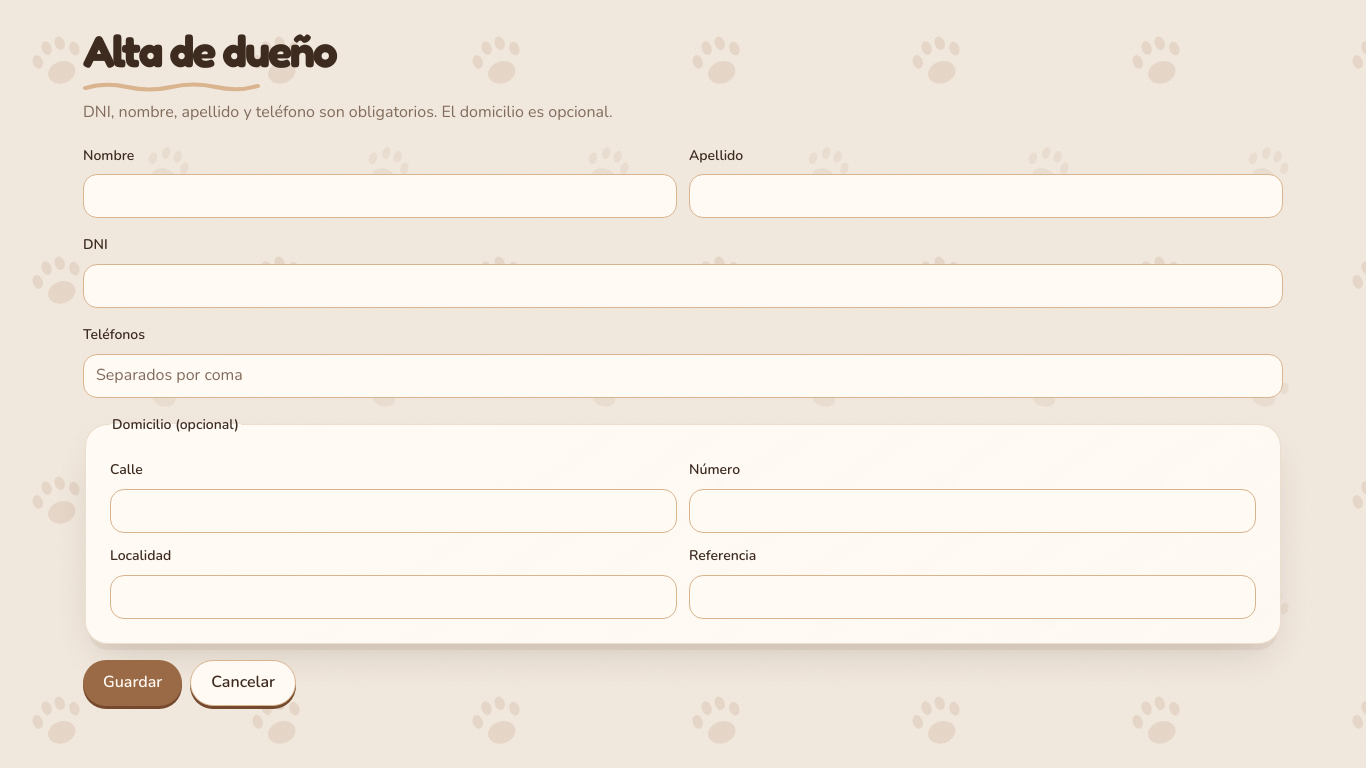
Test: Alta de dueño › un posible duplicado abre el modal y no crea nada
This screenshot has width=1366, height=768.
Type "Ana" into the field labelled "Nombre" at [380, 196], box [83,174,677,218]
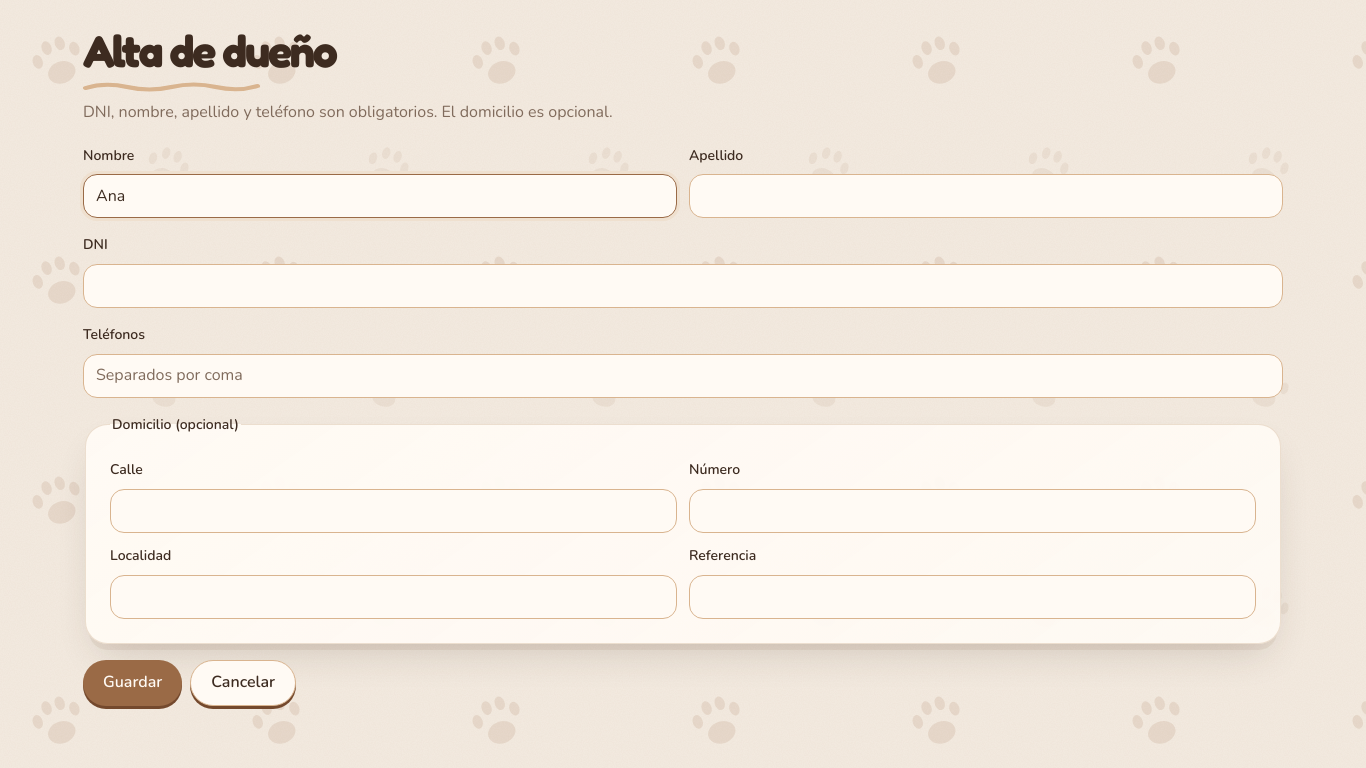
Type "Paz" into the field labelled "Apellido" at [986, 196], box [689,174,1283,218]
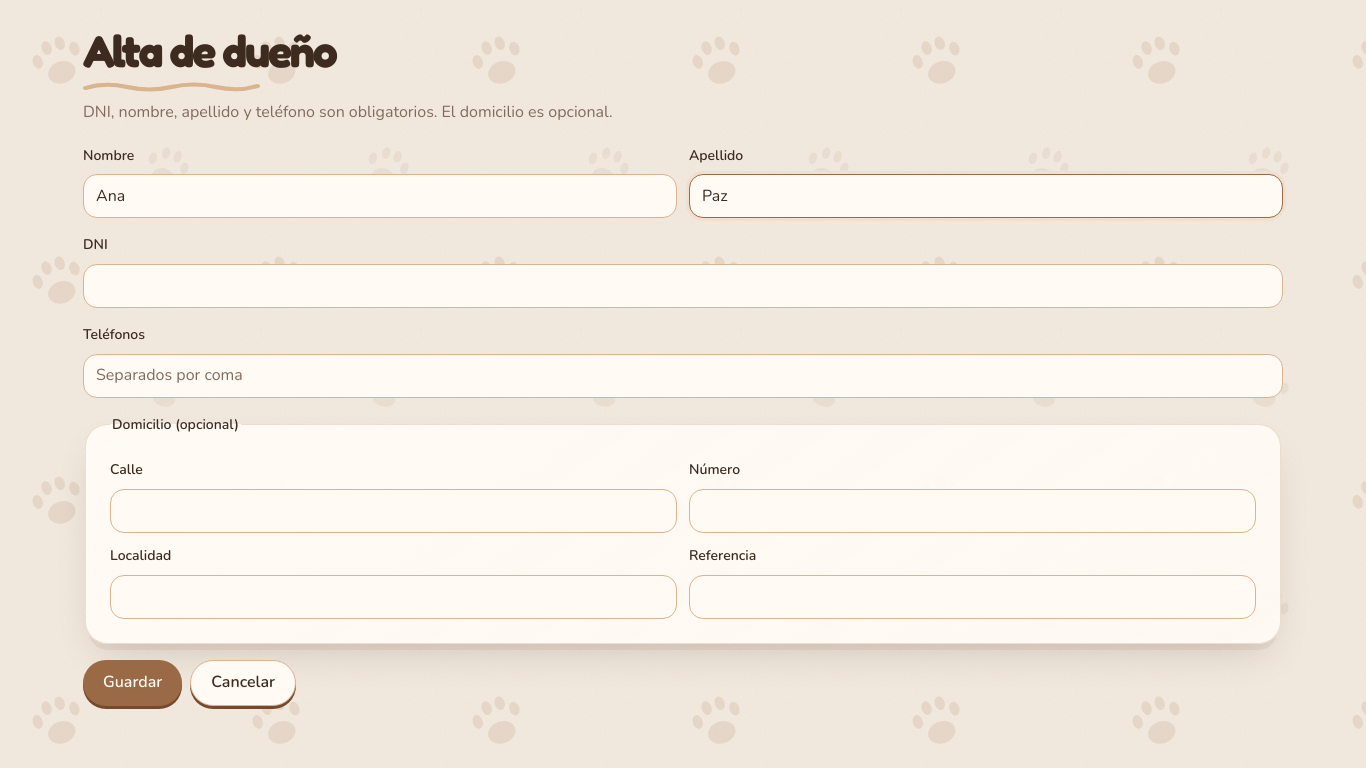
Type "30111222" into the field labelled "DNI" at [683, 286], box [83,264,1283,308]
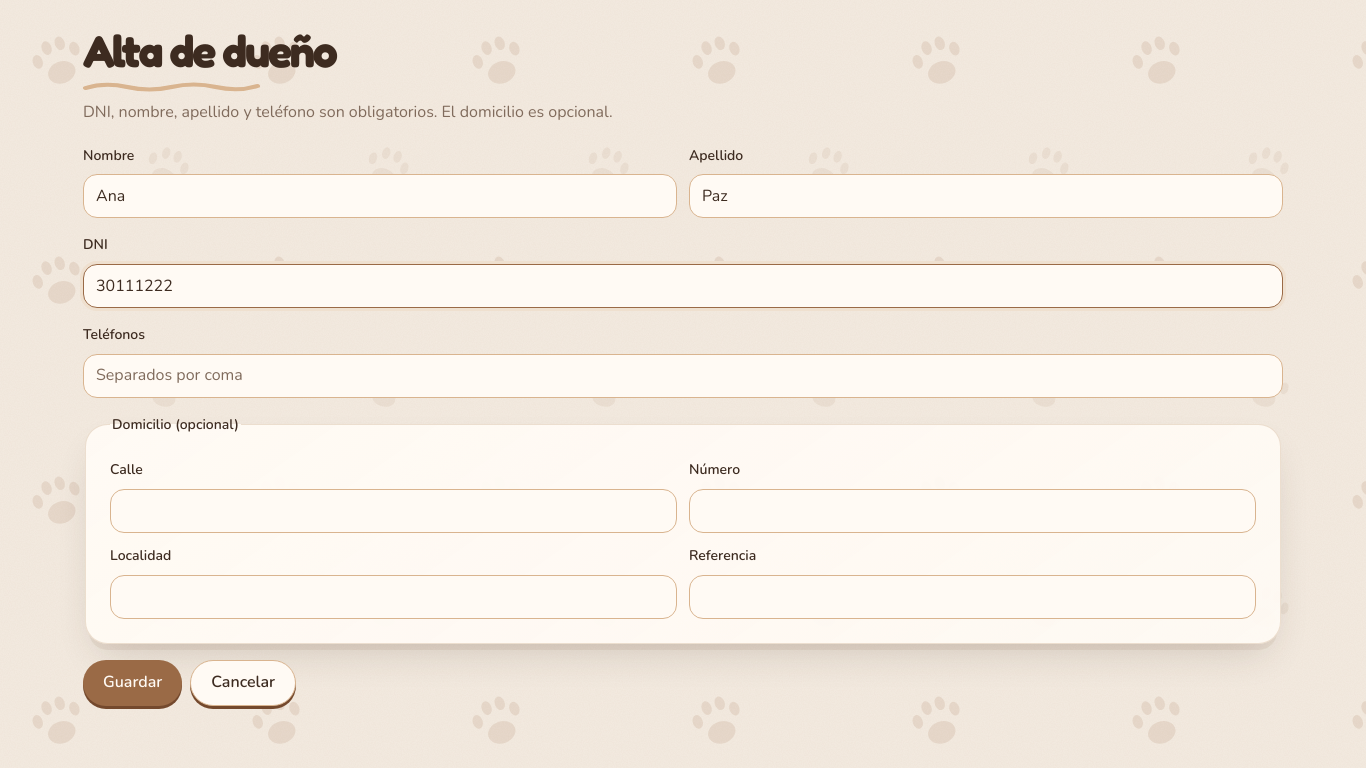
Type "1144556677" into the field labelled "Teléfonos" at [683, 376], box [83,354,1283,398]
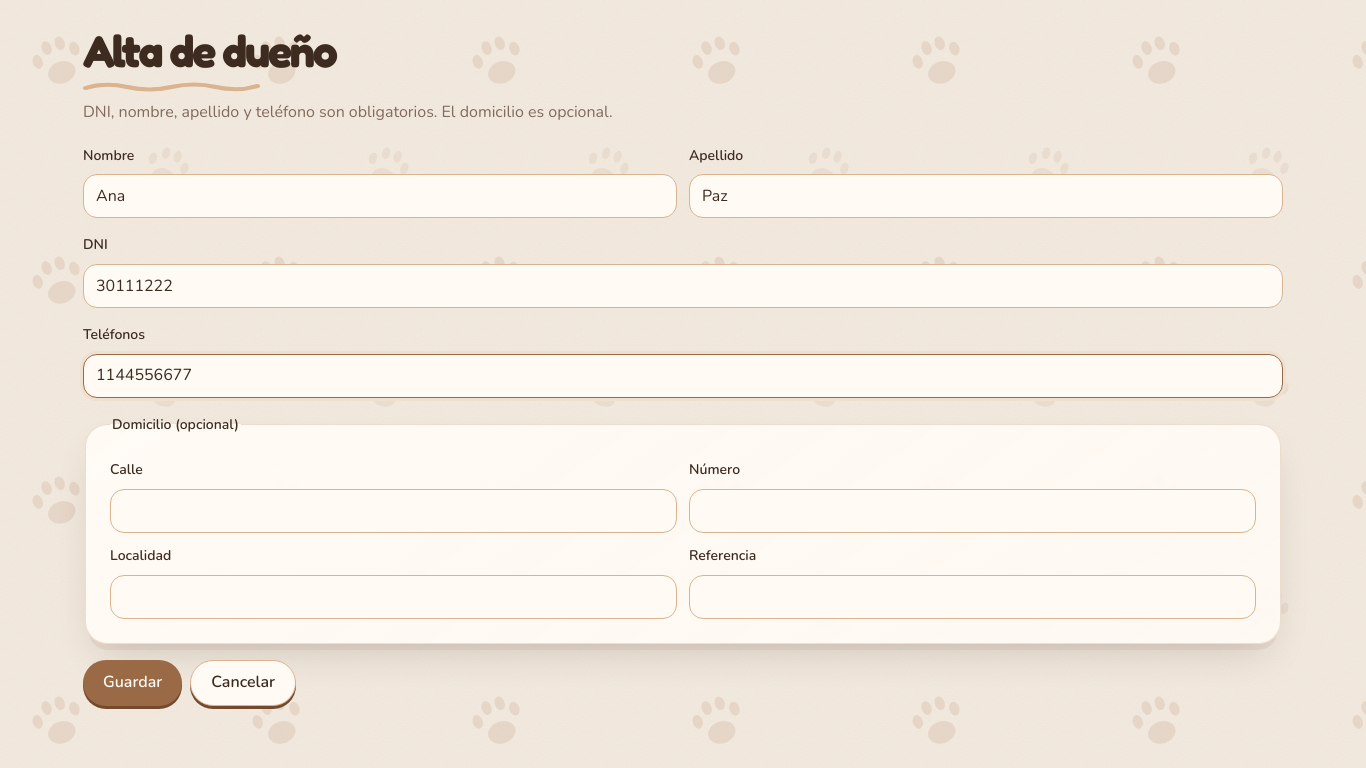
Click the button "Guardar" at [133, 683], box [83,660,182,706]
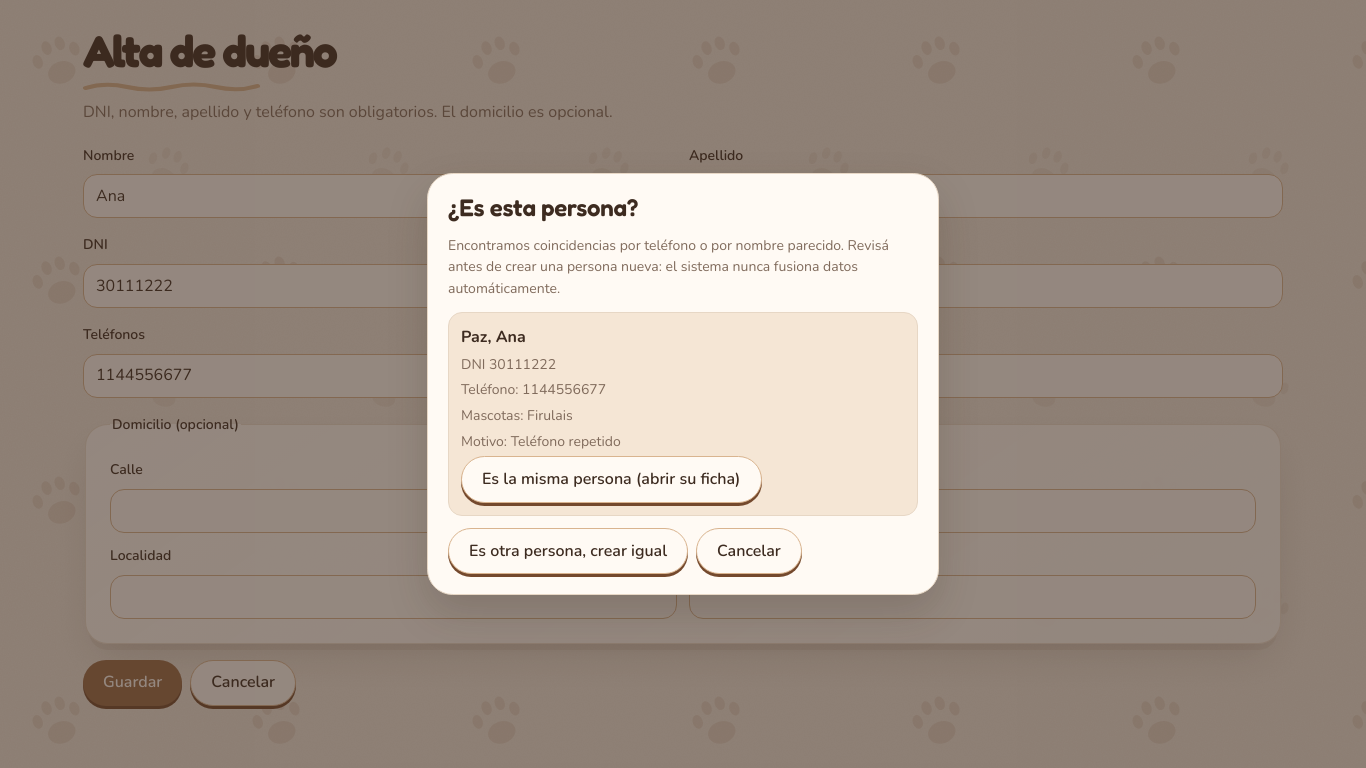
Expected: the dialog is shown, [427,173,939,595]
Expected: the text "Motivo: Teléfono repetido" is shown, [461,432,621,451]
